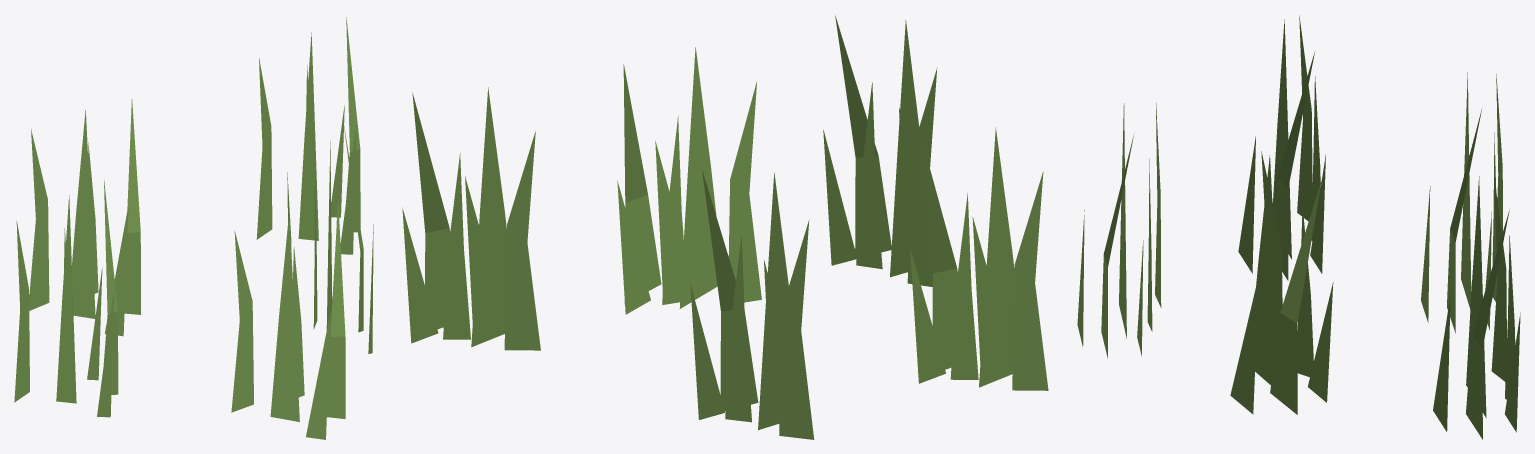
Rendered from Grass_1.fbx.
The picture shows the model from 3 angles, left to right: view 1: azimuth 30°, elevation 25°; view 2: azimuth 150°, elevation 25°; view 3: azimuth 270°, elevation 25°; orthographic projection. The views are drawn at different scales.
Visible parts, largest first — view 1: Grass_1; view 2: Grass_1; view 3: Grass_1.
Part boxes in pixels (box(x1,y1,x2,y2)): Grass_1: box(14, 17, 373, 439); Grass_1: box(402, 15, 1048, 439); Grass_1: box(1077, 15, 1520, 439).
Bounding box in the file's own units: 142 × 74.71 × 115.
